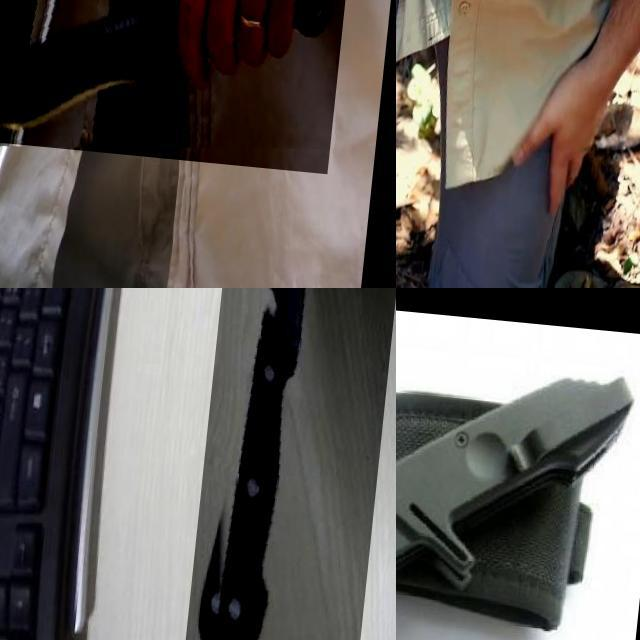-: (195, 288, 396, 640), (0, 0, 354, 162), (396, 17, 454, 288)
